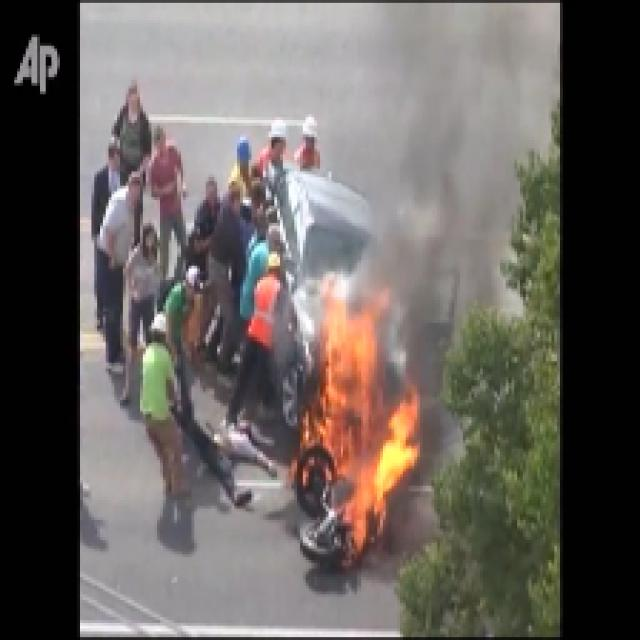fire: (311, 331, 405, 539)
